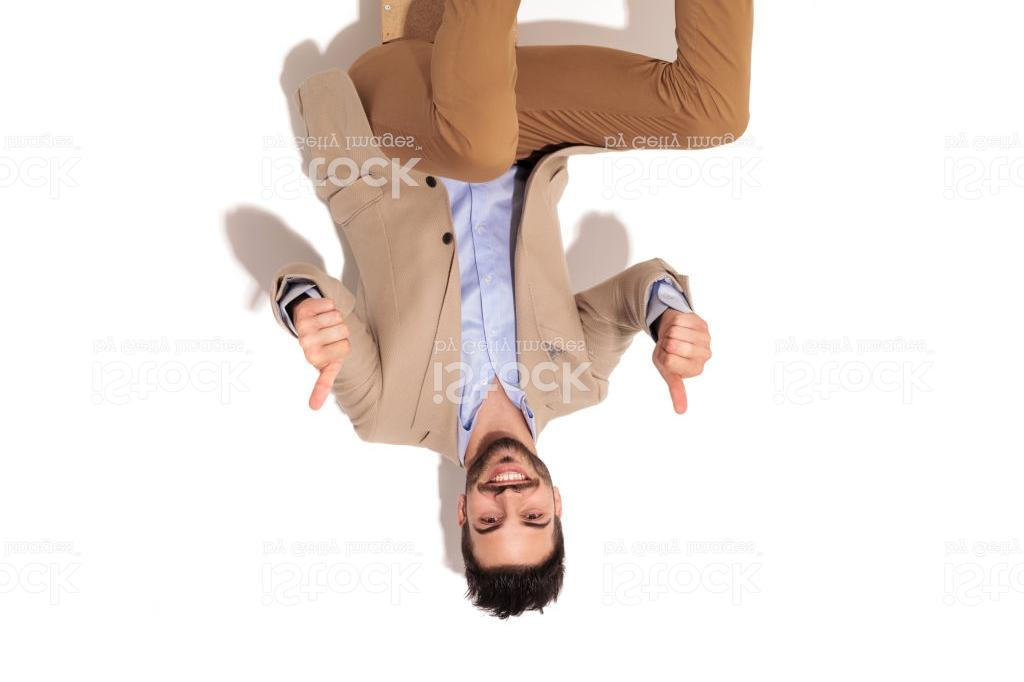thumbsdown: (290, 296, 354, 412), (651, 310, 714, 417)
